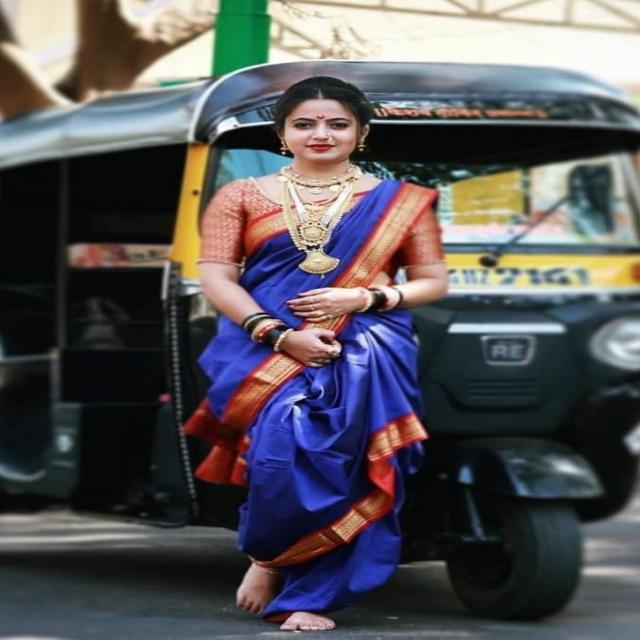female-dress: (189, 167, 446, 614)
